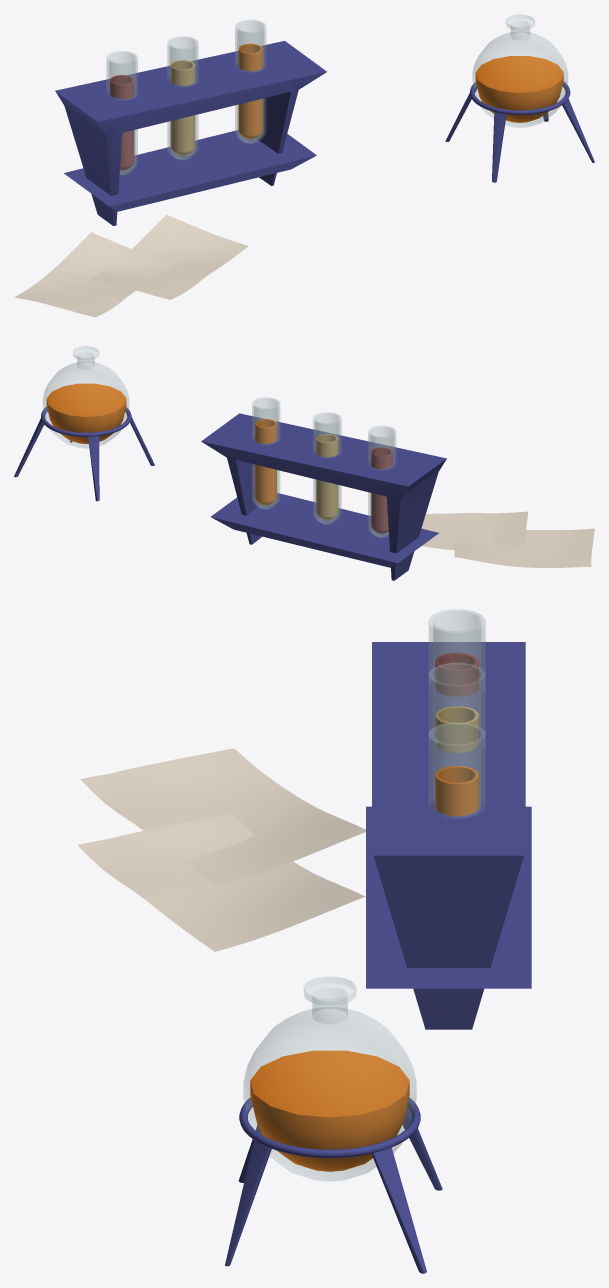
File: materiel_ilot_04.fbx
3 renders of one model, top to bottom at view 1: azimuth 30°, elevation 25°; view 2: azimuth 150°, elevation 25°; view 3: azimuth 270°, elevation 25°, orthographic. The views are drawn at different scales.
Visible parts, largest first — view 1: materiel_ilot_04; view 2: materiel_ilot_04; view 3: materiel_ilot_04.
Part boxes in pixels (x1=…): materiel_ilot_04: x1=14, y1=14, x2=594, y2=317; materiel_ilot_04: x1=14, y1=346, x2=594, y2=580; materiel_ilot_04: x1=77, y1=609, x2=531, y2=1273.
Size of the model in its own units: 275 by 70.97 by 102.
